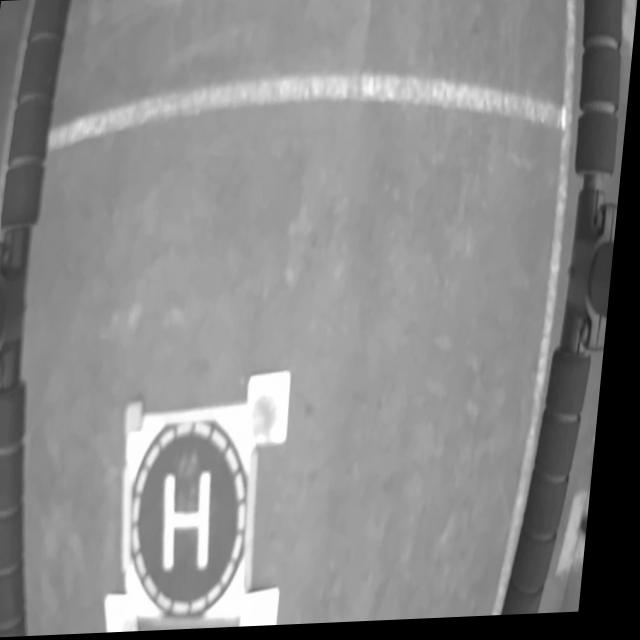Helipad: (172, 469, 221, 574)
